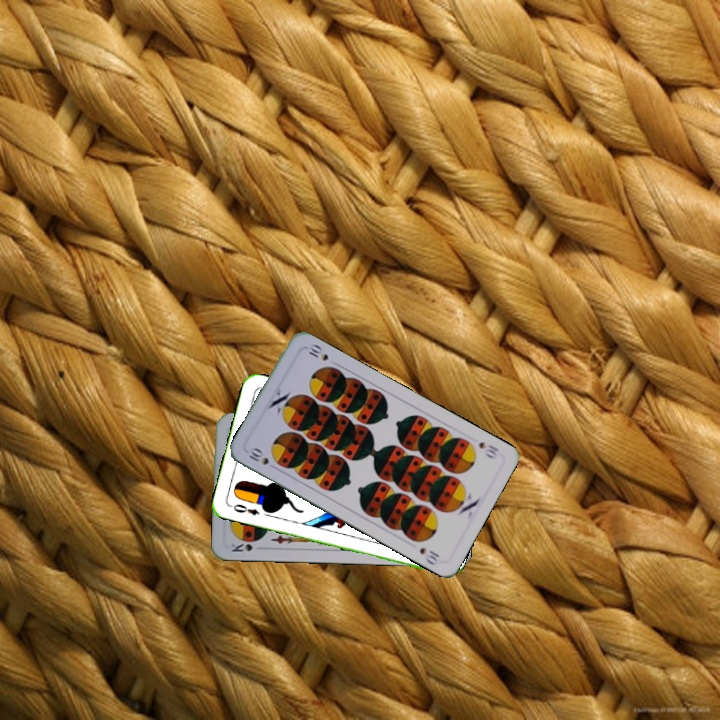EO: (226, 500, 262, 518)
S10: (243, 444, 272, 468), (475, 438, 501, 461)
SK: (226, 538, 255, 554)
